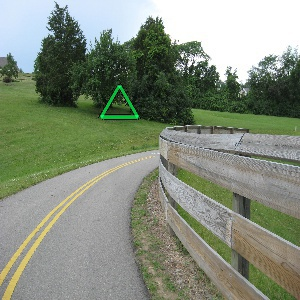triangle: (97, 82, 142, 121)
